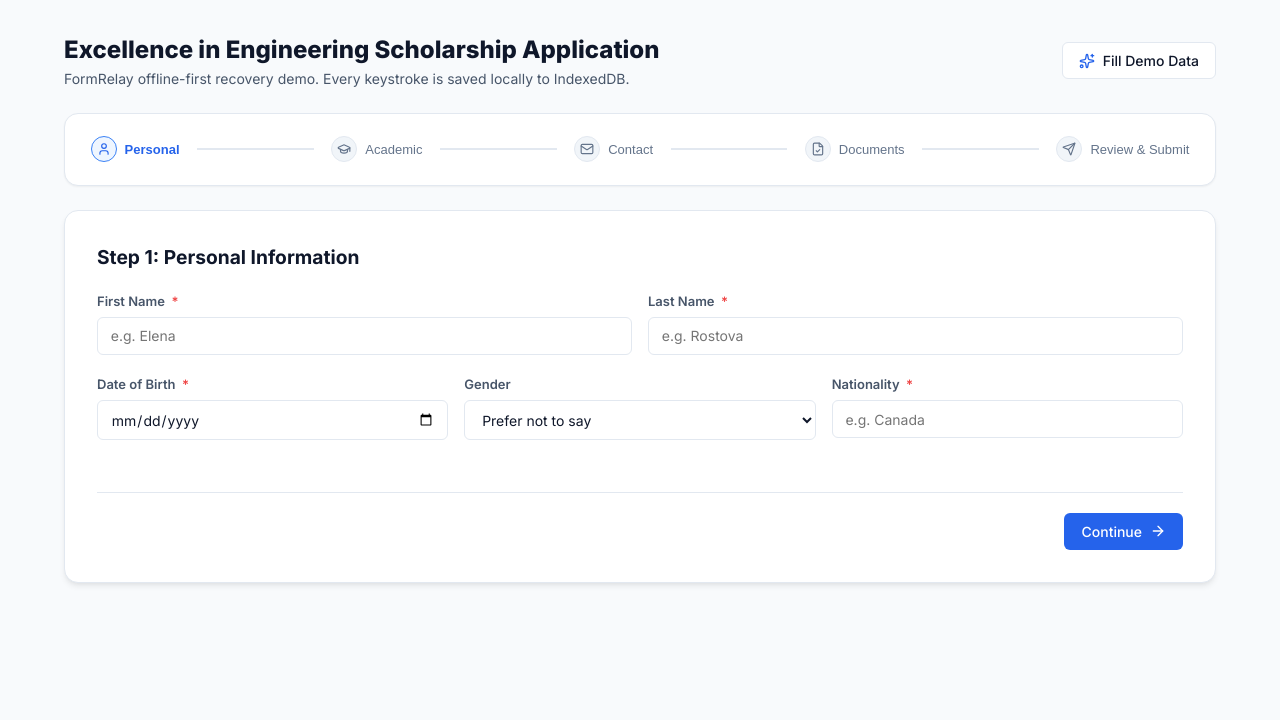
ScholarshipWizard Component › populates synthetic sample data on button click
Click the button "Fill Demo Data" at coordinates (1139, 60), box [1062,42,1216,79]
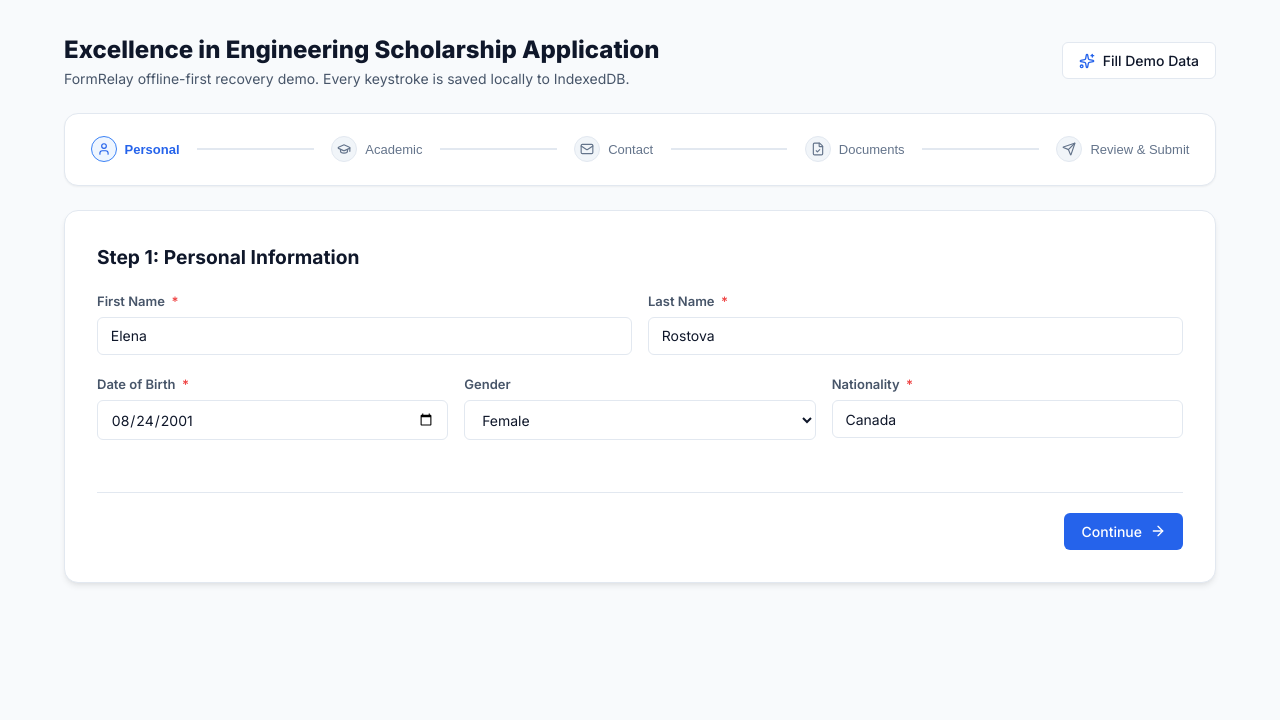
Expected: the field with placeholder "e.g. Elena" below "First Name" holds "Elena", [97,317,632,355]
